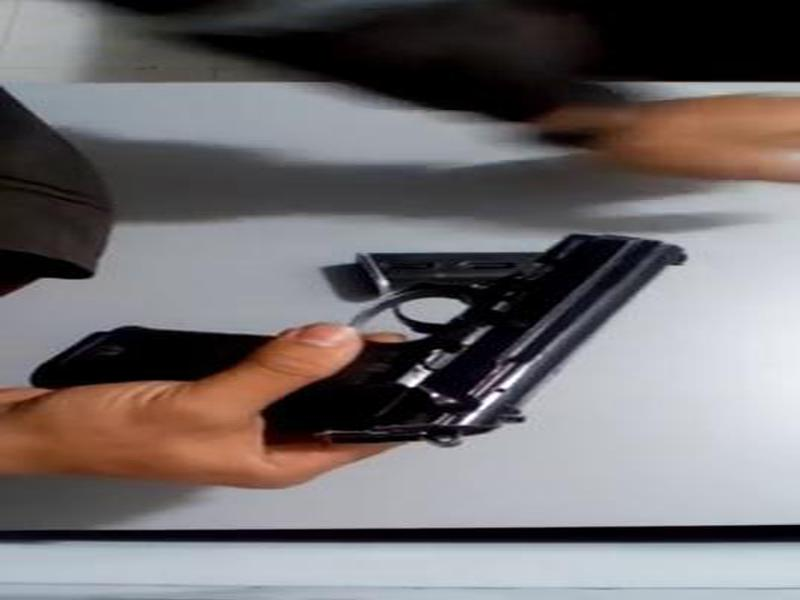Pistola: (68, 182, 678, 433)
